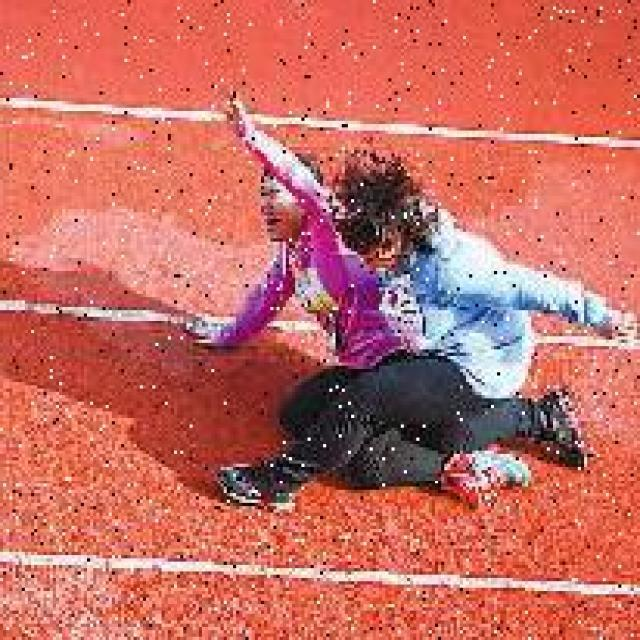fall: (208, 108, 398, 480)
